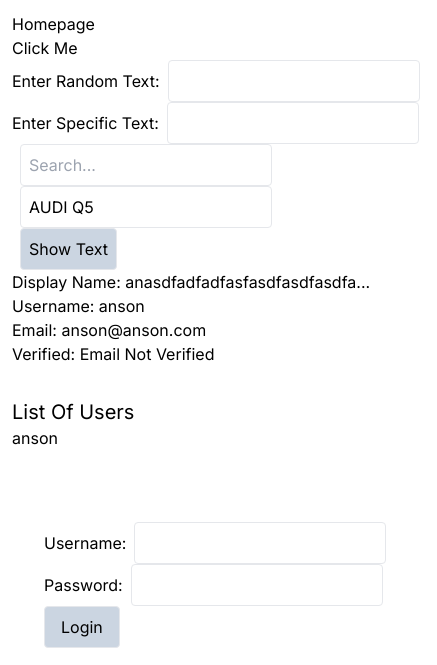
Test: Home Page › Behavior › should click on Show Text button and find new text
The width and height of the screenshot is (437, 665).
expect the text "This is the text!" is not shown: met
Note: fire a user-event
Click the button "Show Text": (68, 249) [20, 228, 117, 270]
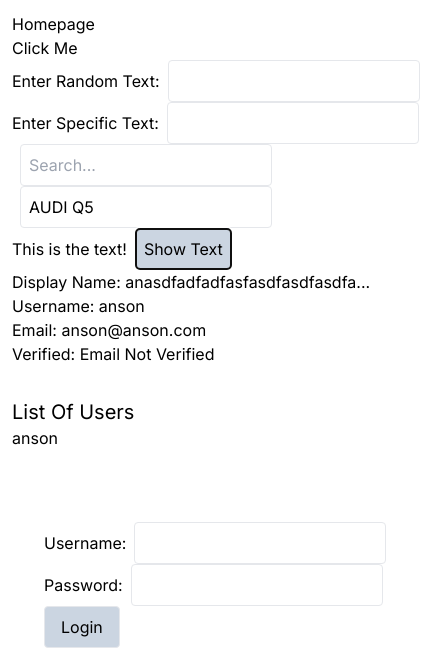
expect the text "This is the text!" is shown: met, box [12, 239, 127, 259]
